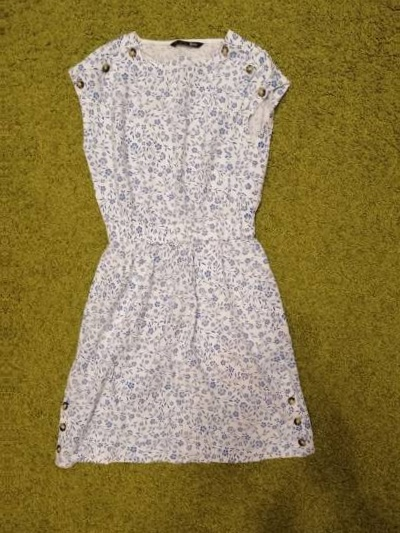Dress: (41, 25, 303, 492)
